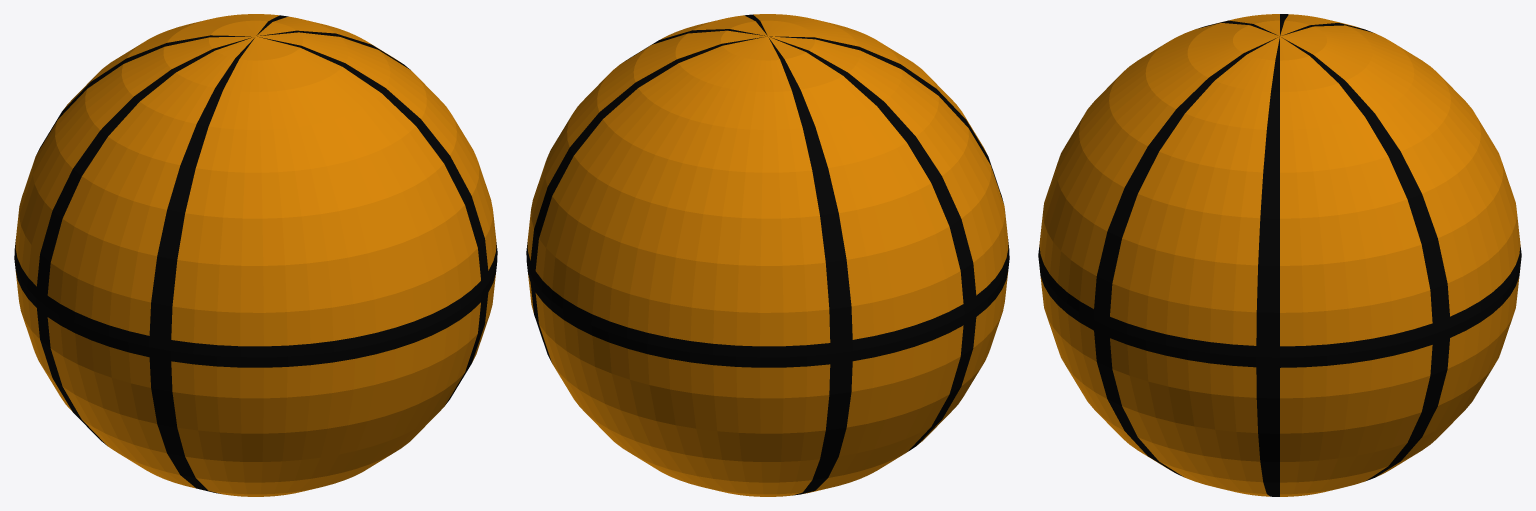
File: Basketball.fbx
The picture shows the model from 3 angles, left to right: view 1: azimuth 30°, elevation 25°; view 2: azimuth 150°, elevation 25°; view 3: azimuth 270°, elevation 25°; orthographic projection.
Visible parts, largest first — view 1: Sphere; view 2: Sphere; view 3: Sphere.
Part boxes in pixels (bbox=[...]): Sphere: bbox=[14, 14, 497, 496]; Sphere: bbox=[526, 14, 1009, 496]; Sphere: bbox=[1038, 14, 1521, 496].
Bounding box in the file's own units: 60 × 60 × 60.
